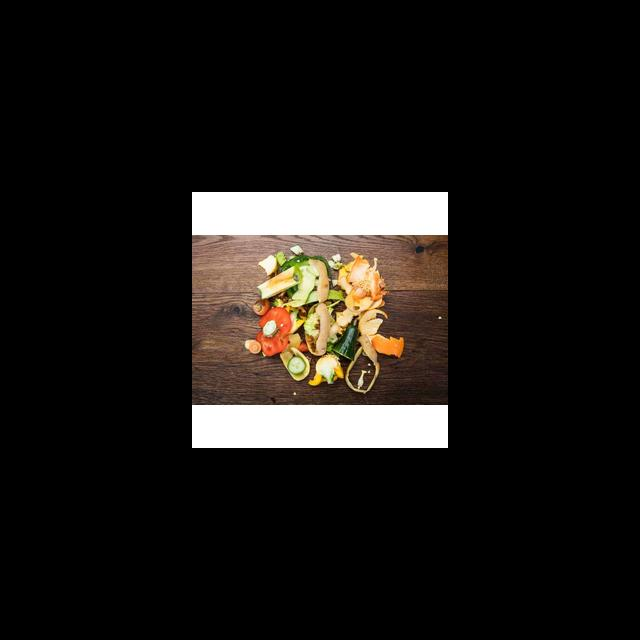food_waste: (251, 256, 308, 299), (249, 305, 295, 358), (305, 300, 336, 349), (346, 250, 378, 297), (337, 314, 364, 362), (308, 259, 334, 308), (313, 352, 351, 385), (281, 359, 314, 384), (375, 333, 406, 359)
